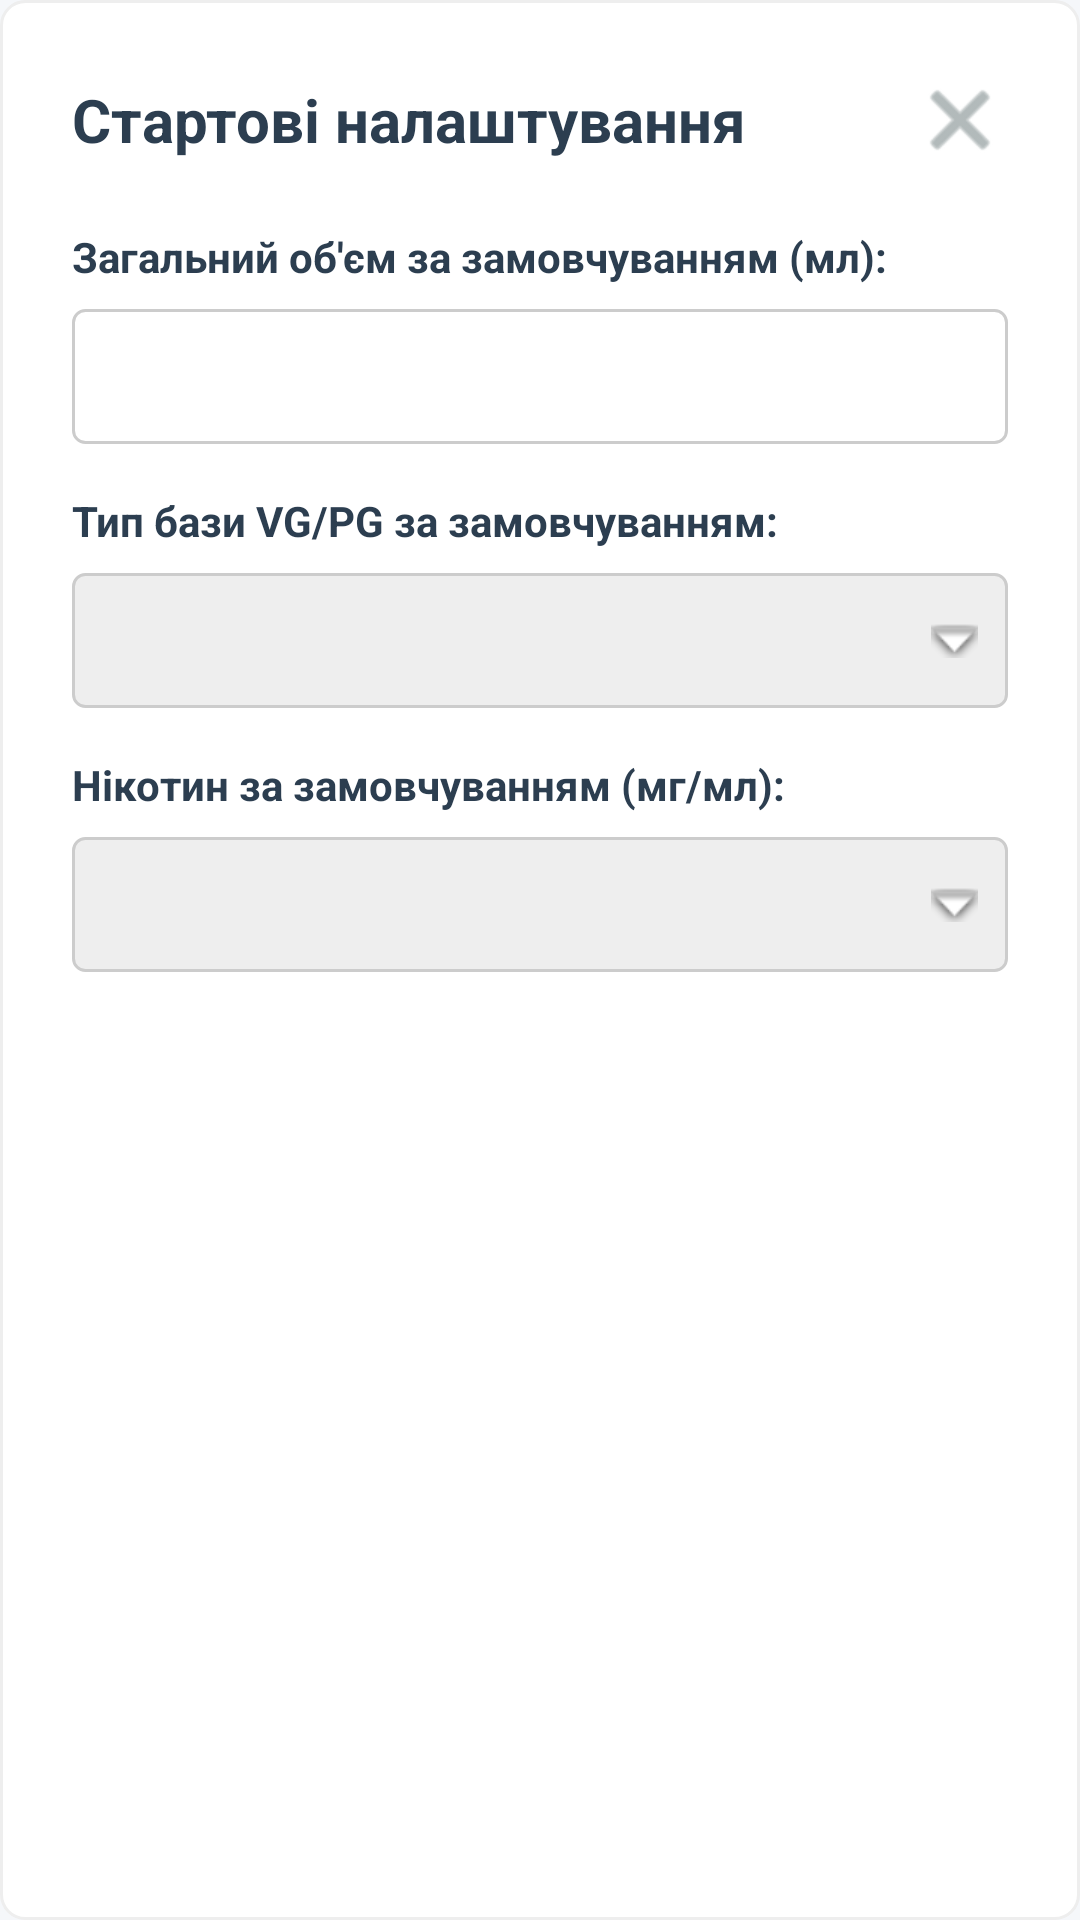

Point at icon controls on the screen. Image size 1080px×1920px, points as (x=x, y=y).
Close: (x=960, y=120)
